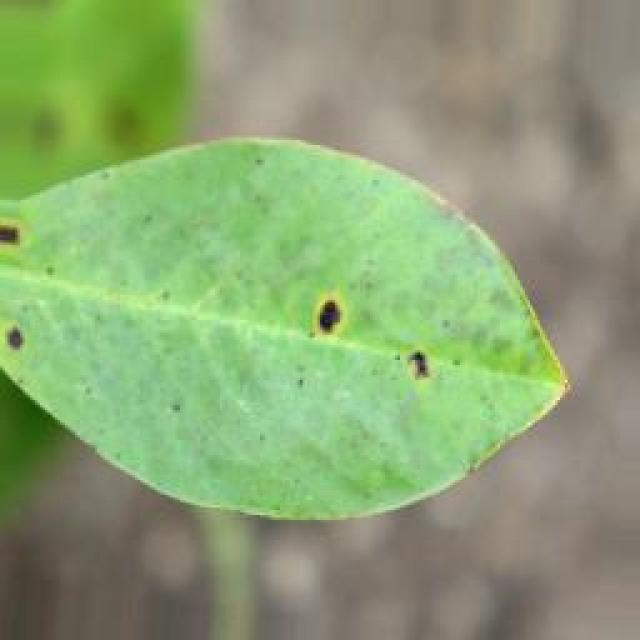Early_leaf_spot: (391, 323, 454, 425), (301, 279, 362, 373), (0, 289, 36, 365), (0, 200, 37, 273)
